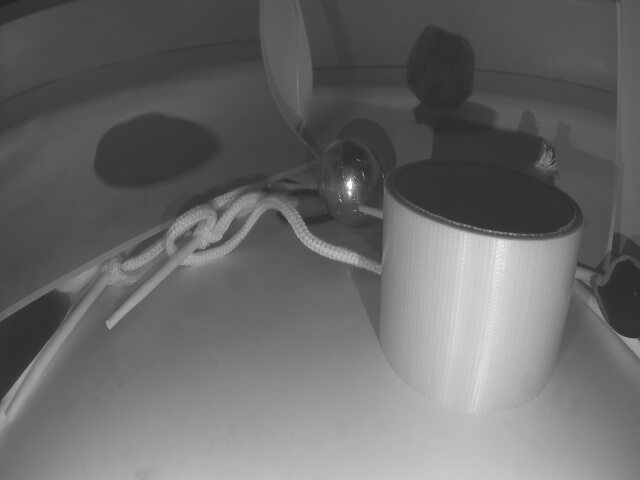Live: (316, 135, 385, 223)
